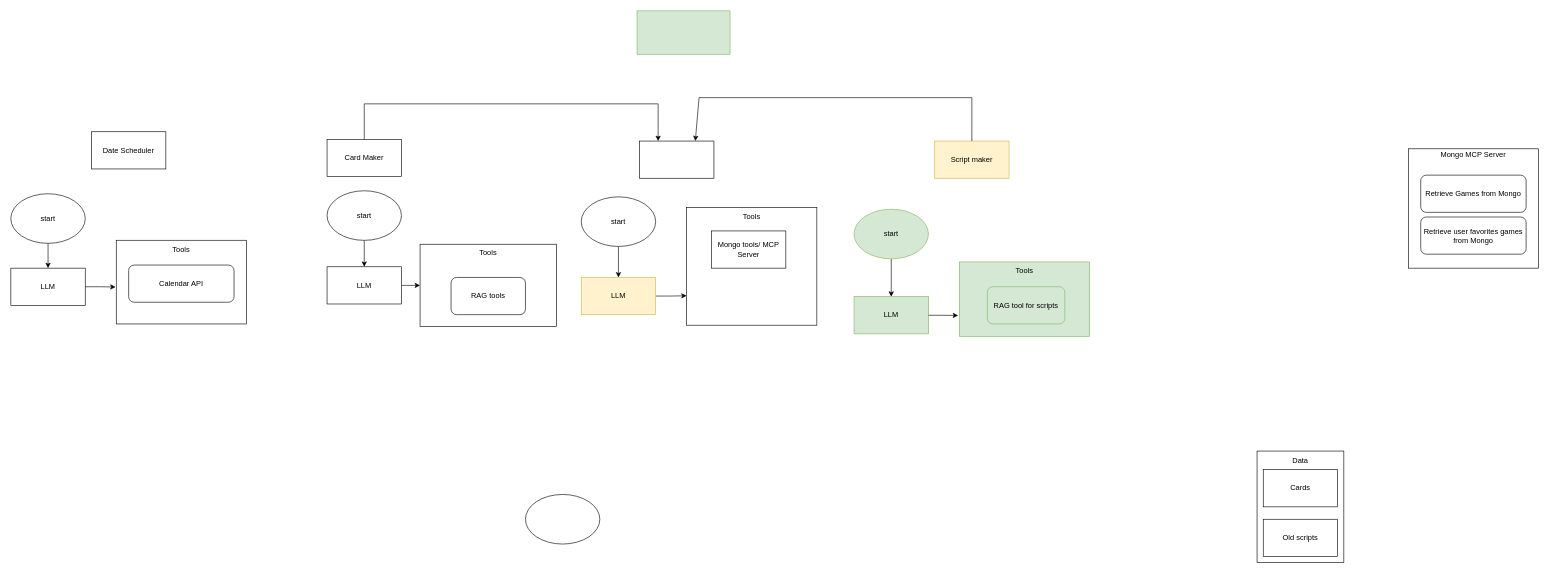
This 1549x574 diagram has some shape labels left out. The shapes that lost their labels are listed below. From the top down, each one's centre as x and y in pixels, then its label:
At (x=683, y=32): "Supervisor giving agent based on prompt".
At (x=676, y=159): "Box maker".
At (x=562, y=519): "End".
